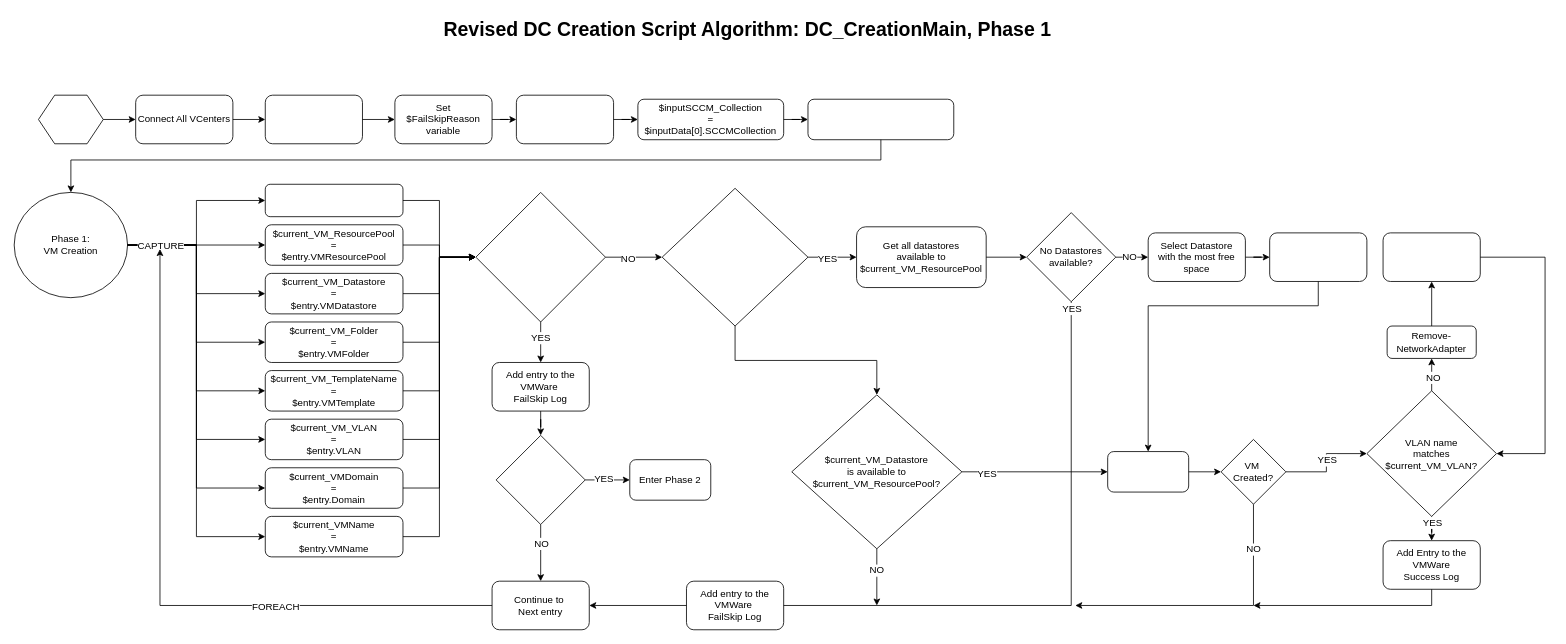
Image size: 1566x644. Some labels were removed from this diagram. The shapes that lost their labels are listed below. From the top down, each one's centre as x and y in pixels, then its label:
pixel 70 119: Start
pixel 313 119: Capture $BeginningScriptRoot
pixel 565 119: Import Data from Input.csv
pixel 880 119: $inputSCCMDrive = $inputData[0].SCCMDrive
pixel 333 200: $current_Vcenter = $entry.VCenter
pixel 540 257: VM with the same name already exists?
pixel 734 257: $current_VM_Datastore -eq "Auto?"
pixel 1318 256: Set it as the current one
pixel 1431 256: New-NetworkAdapter -NetworkName $current_VM_VLAN
pixel 540 479: Last Entry?
pixel 1148 471: Create VM
